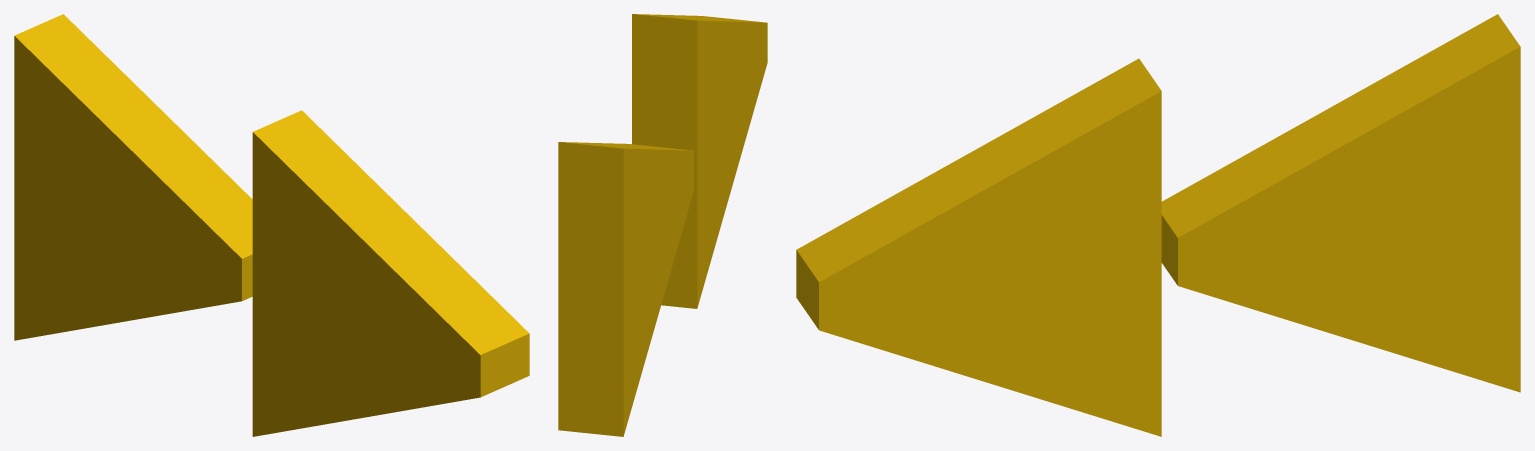
File: Turbo.fbx
The picture shows the model from 3 angles, left to right: view 1: azimuth 30°, elevation 25°; view 2: azimuth 150°, elevation 25°; view 3: azimuth 270°, elevation 25°; orthographic projection. The views are drawn at different scales.
Parts seen in each view (by area): view 1: pCube3, pCube4; view 2: pCube4, pCube3; view 3: pCube3, pCube4.
Part boxes in pixels (bbox=[...]): pCube3: bbox=[252, 110, 529, 436]; pCube4: bbox=[14, 14, 252, 340]; pCube4: bbox=[558, 142, 693, 436]; pCube3: bbox=[632, 14, 767, 308]; pCube3: bbox=[796, 58, 1161, 436]; pCube4: bbox=[1161, 14, 1520, 392].
Bounding box in the file's own units: 36.43 × 49.21 × 93.35.
